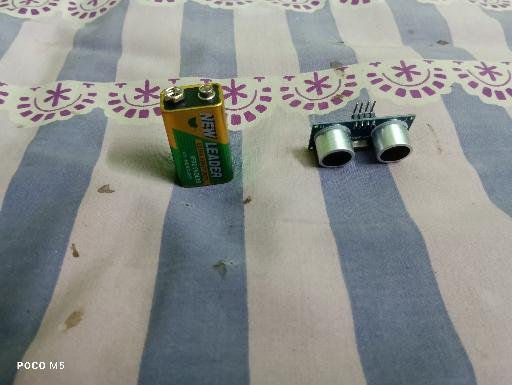Battery: (160, 82, 234, 188)
sensor: (307, 100, 417, 169)
